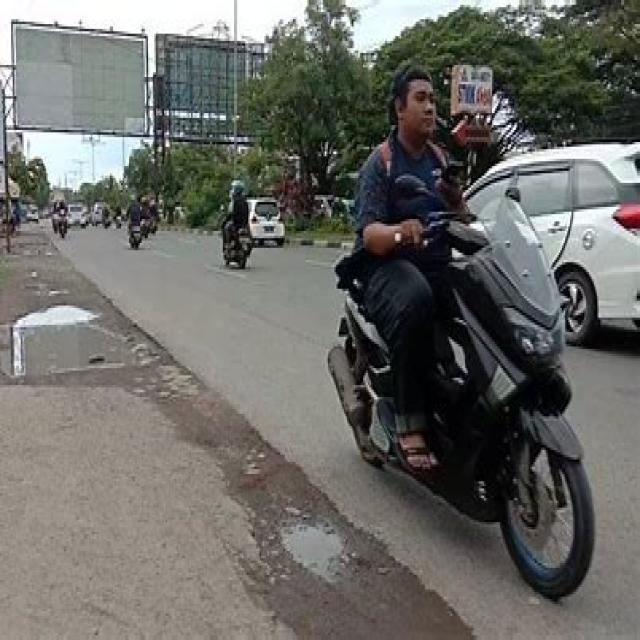Without Helmet: (377, 65, 448, 146)
